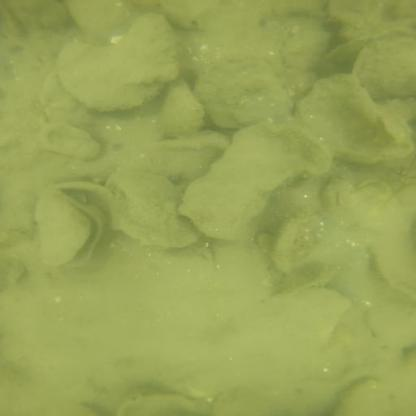3: (31, 187, 101, 268)
Oyster-Closed: (184, 125, 310, 241), (57, 13, 177, 110), (296, 67, 415, 164), (107, 170, 199, 247), (192, 56, 287, 126), (268, 264, 335, 296)
Oyster-Open: (354, 32, 415, 97), (42, 73, 102, 127), (34, 120, 103, 161), (278, 213, 324, 271), (283, 21, 329, 70), (68, 1, 126, 39), (161, 83, 203, 135), (334, 379, 394, 415), (211, 391, 257, 415)
